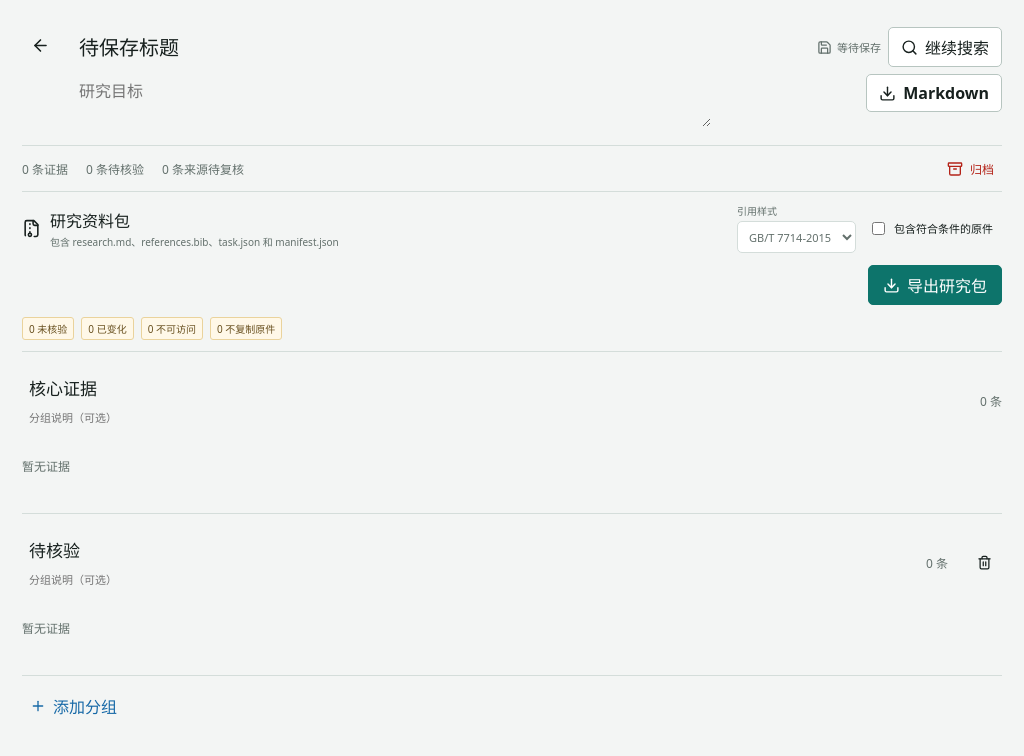
Scenario: task resilience › keeps the editor open when saving before return fails
Step 1. Click the button named "返回资料包列表" → (40, 45), box 22,27 -> 58,63
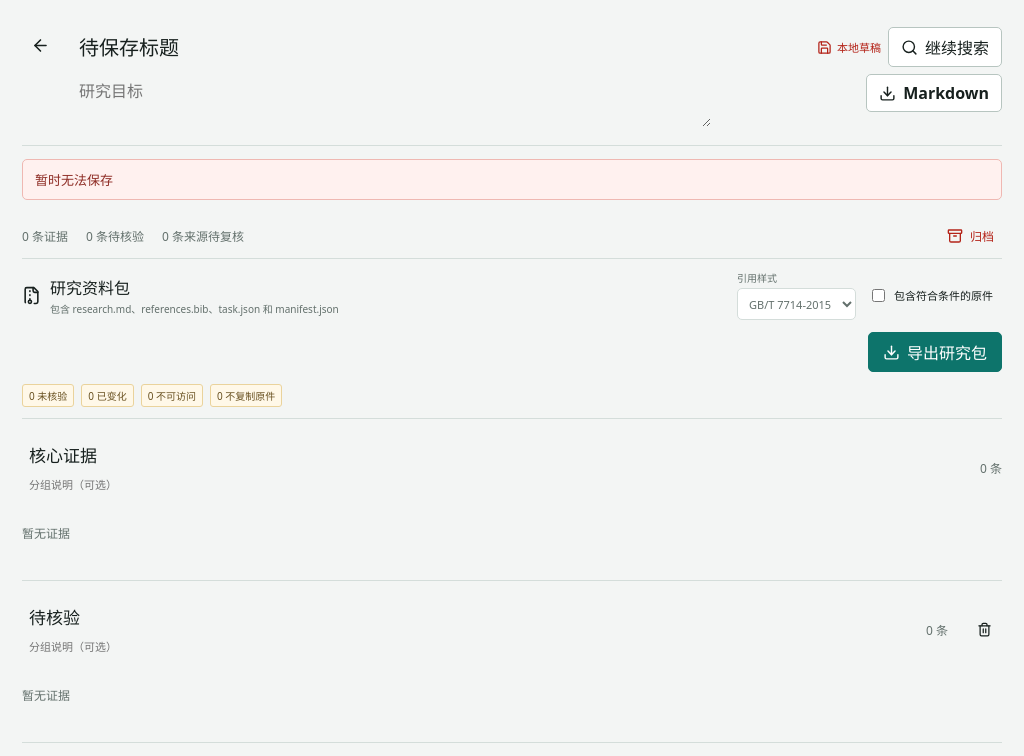
Expected: the field named "资料包名称" holds "待保存标题", 70,27 -> 712,66
Expected: the message reads "暂时无法保存", 35,171 -> 113,189
